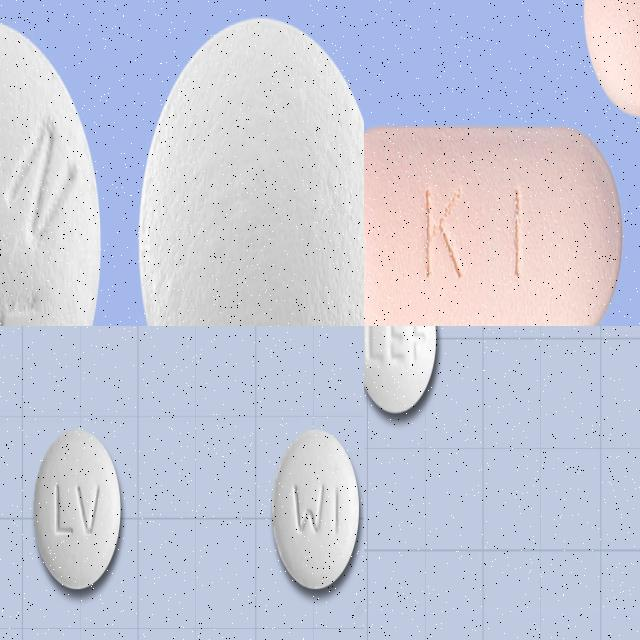Levoflcin: (138, 15, 364, 326), (0, 19, 103, 326)
Levogun -250mg: (364, 123, 622, 326)
R-A Tab: (364, 326, 437, 416)
Withus Levofloxacin Tab: (271, 429, 362, 591), (34, 427, 122, 590)
